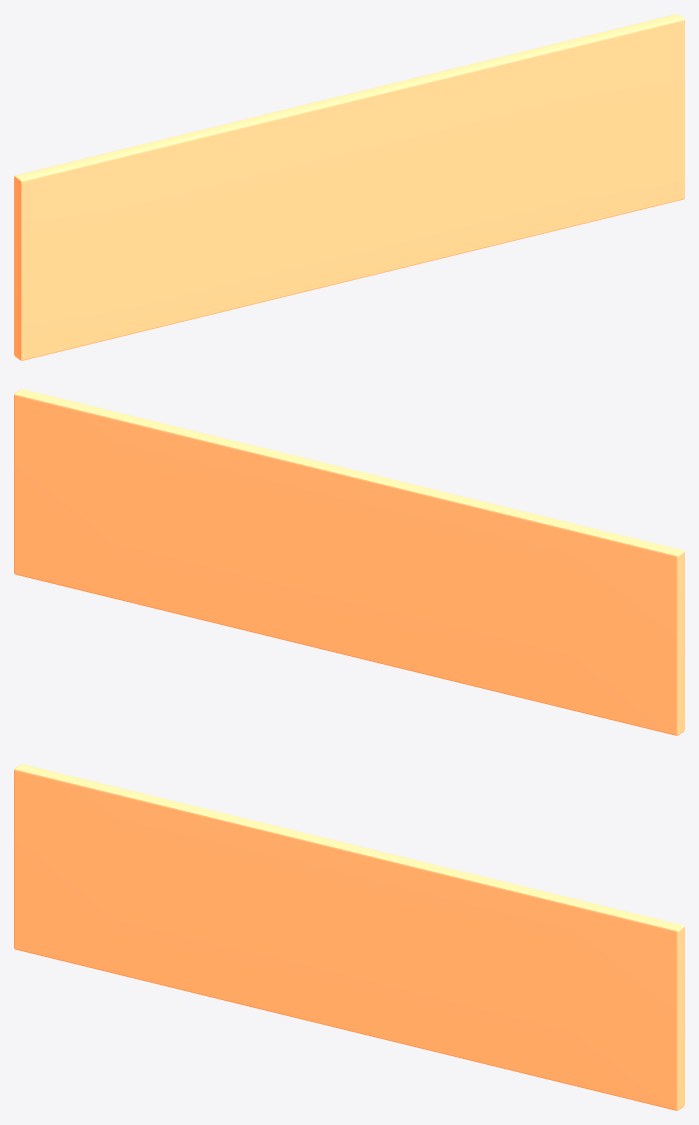
The model's file is SM_Wall_ForecastleBack.fbx.
The picture shows the model from 3 angles, top to bottom: view 1: azimuth 30°, elevation 25°; view 2: azimuth 150°, elevation 25°; view 3: azimuth 330°, elevation 25°; orthographic projection.
Parts seen in each view (by area): view 1: SM_Wall_ForecastleBack; view 2: SM_Wall_ForecastleBack; view 3: SM_Wall_ForecastleBack.
Boxes of the visible parts, x1,y1,x2,y2 form: SM_Wall_ForecastleBack: (14,14,684,360); SM_Wall_ForecastleBack: (14,389,684,735); SM_Wall_ForecastleBack: (14,764,684,1110).
Size of the model in its own units: 959 by 20 by 250.
